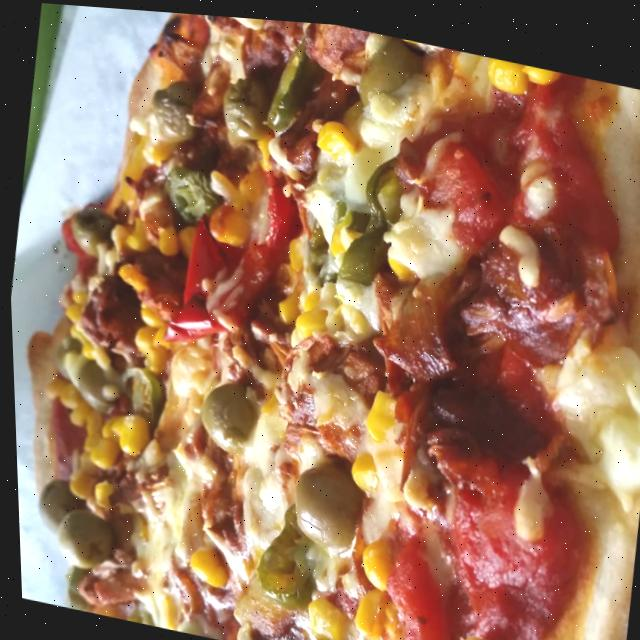green_olives: (283, 449, 365, 552), (348, 23, 424, 116), (191, 374, 261, 453), (49, 505, 115, 573), (146, 68, 207, 141), (219, 70, 275, 144), (63, 203, 119, 259), (32, 475, 83, 534), (72, 357, 119, 413), (48, 333, 85, 381), (274, 628, 343, 640)
pizza: (0, 0, 640, 640)
